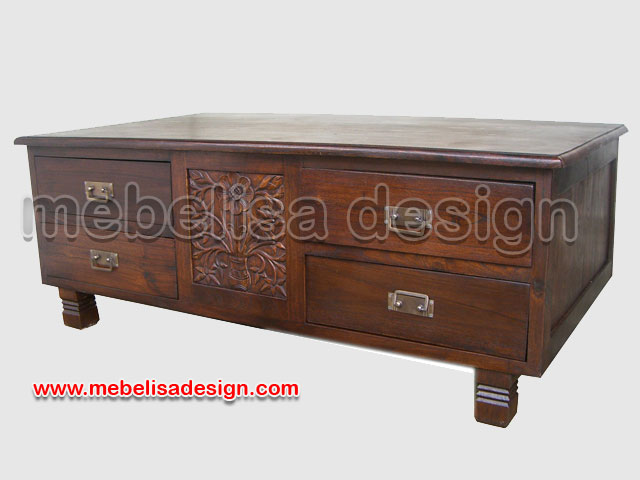Carving Table: (26, 113, 620, 413)
